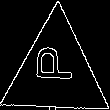P_W: (34, 52, 79, 92)
